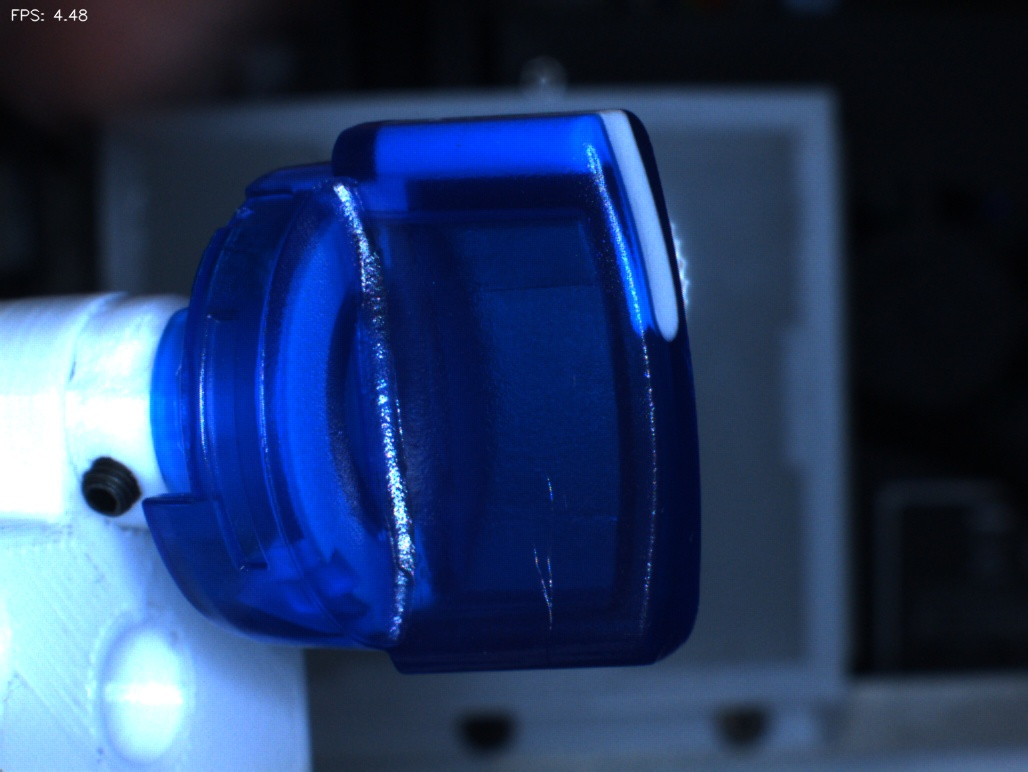Givrage: (486, 452, 594, 653)
